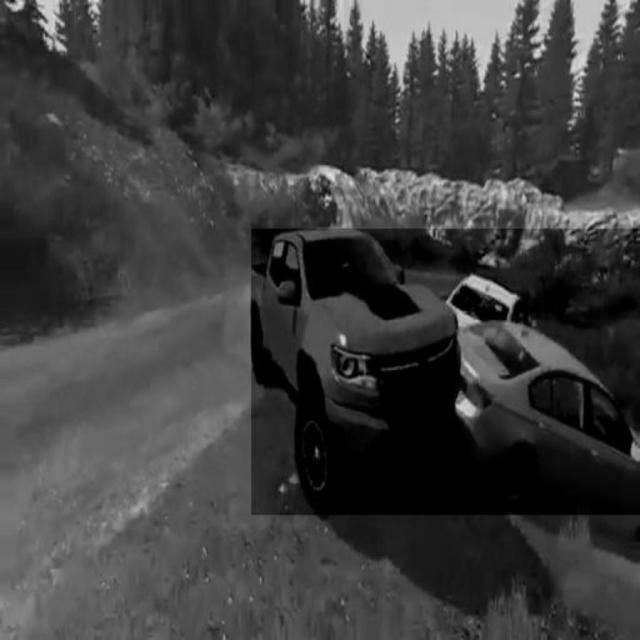accident: (251, 229, 640, 515)
